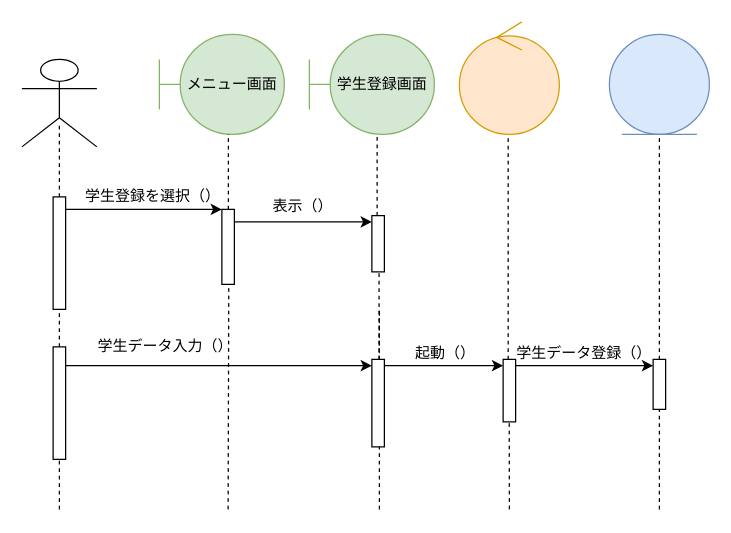
Image size: 731x533. Some labels were removed from this diagram. Here are the shapes that lost their labels. From the top down, the box of each, then its label:
(458, 21, 559, 134): 学生情報登録
(608, 33, 709, 134): 学生 オブジェクト
